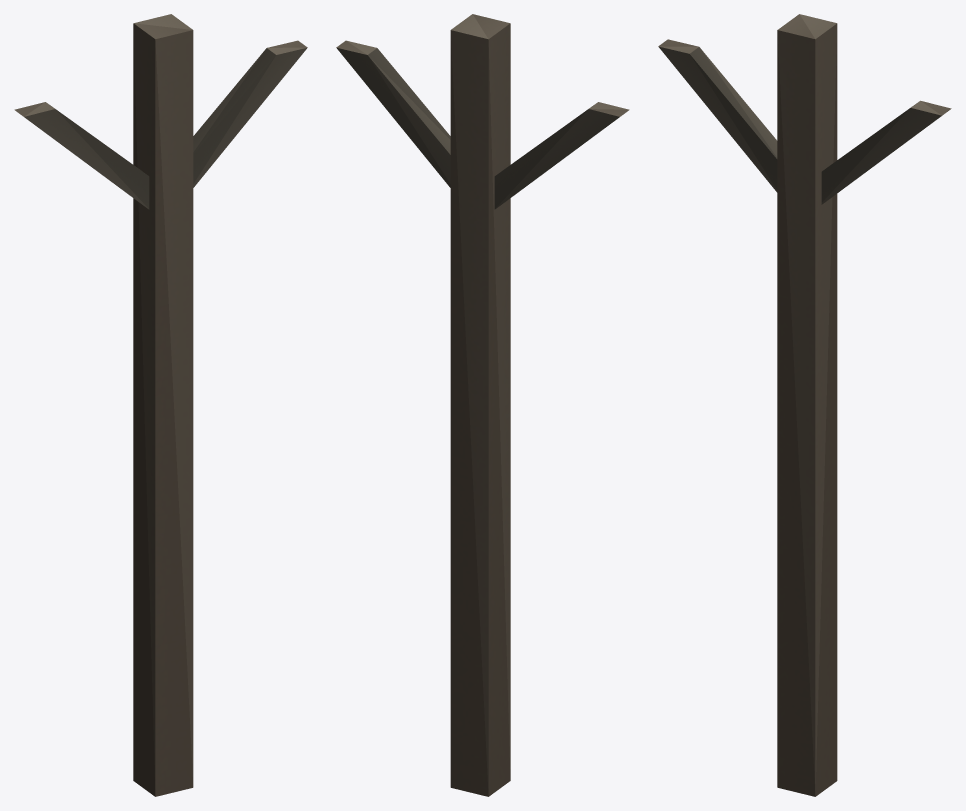
The model's file is Wood_2_LOD.fbx.
3 views of the same model, side by side, from view 1: azimuth 30°, elevation 25°; view 2: azimuth 150°, elevation 25°; view 3: azimuth 330°, elevation 25° (orthographic).
Parts seen in each view (by area): view 1: polySurface1303; view 2: polySurface1303; view 3: polySurface1303.
Boxes of the visible parts, left/top/right/bottom form: polySurface1303: left=14, top=14, right=307, bottom=796; polySurface1303: left=336, top=14, right=629, bottom=796; polySurface1303: left=658, top=14, right=951, bottom=796.
Size of the model in its own units: 3.14 by 8.01 by 0.42.
